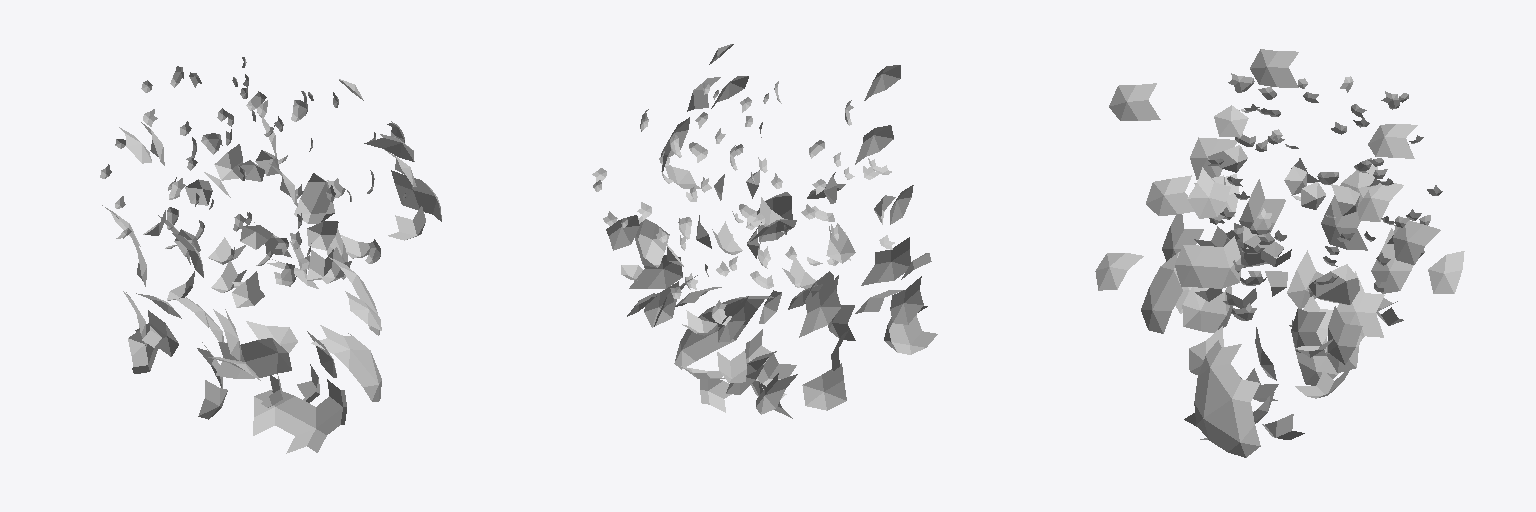
Rendered from azuki_unarmed_exploding_000010.obj.
3 views of the same model, side by side, from view 1: azimuth 30°, elevation 25°; view 2: azimuth 150°, elevation 25°; view 3: azimuth 270°, elevation 25° (orthographic).
Visible parts, largest first — view 1: Body_Icosphere.001, Leg.R_Icosphere.002, Leg.L_Icosphere.005, Eye.L_Icosphere.006, Eye.R_Icosphere.004; view 2: Body_Icosphere.001, Leg.L_Icosphere.005, Leg.R_Icosphere.002, Eye.R_Icosphere.004, Eye.L_Icosphere.006; view 3: Body_Icosphere.001, Leg.L_Icosphere.005, Leg.R_Icosphere.002, Eye.R_Icosphere.004, Eye.L_Icosphere.006.
Boxes of the visible parts, x1,y1,x2,y2 form: Body_Icosphere.001: [102, 79, 441, 453]; Leg.R_Icosphere.002: [185, 144, 425, 402]; Leg.L_Icosphere.005: [128, 150, 351, 407]; Eye.L_Icosphere.006: [100, 66, 335, 287]; Eye.R_Icosphere.004: [186, 57, 406, 279]; Body_Icosphere.001: [606, 44, 931, 418]; Leg.L_Icosphere.005: [696, 172, 937, 389]; Leg.R_Icosphere.002: [621, 165, 815, 412]; Eye.R_Icosphere.004: [592, 83, 825, 298]; Eye.L_Icosphere.006: [661, 81, 894, 325]; Body_Icosphere.001: [1095, 49, 1464, 457]; Leg.L_Icosphere.005: [1194, 145, 1403, 401]; Leg.R_Icosphere.002: [1195, 166, 1398, 439]; Eye.R_Icosphere.004: [1209, 92, 1430, 326]; Eye.L_Icosphere.006: [1208, 73, 1442, 285].
Bounding box in the file's own units: 4.85 × 5.67 × 5.27.